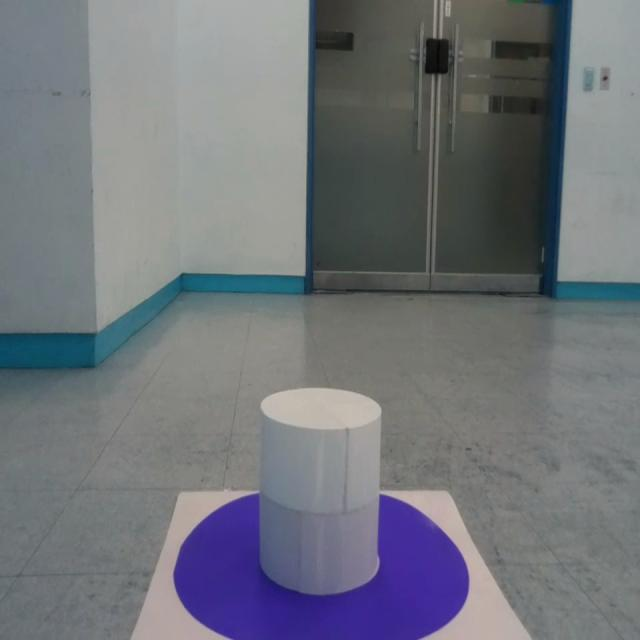cylinder: (255, 388, 381, 597)
